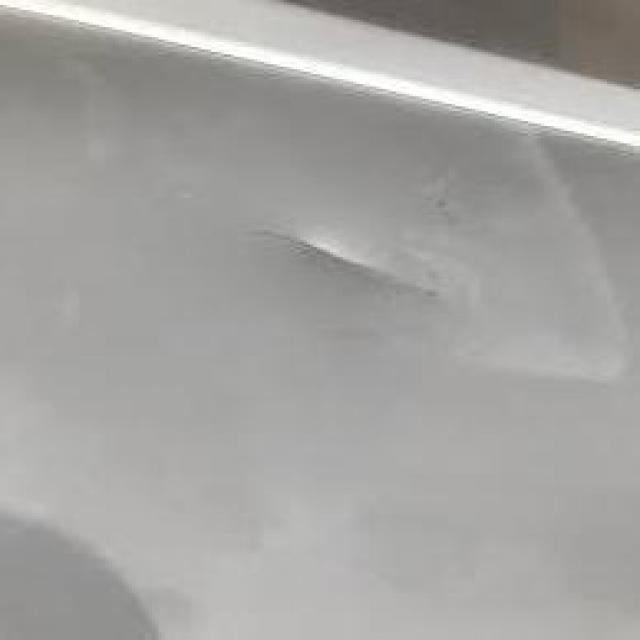dent: (222, 206, 480, 328)
